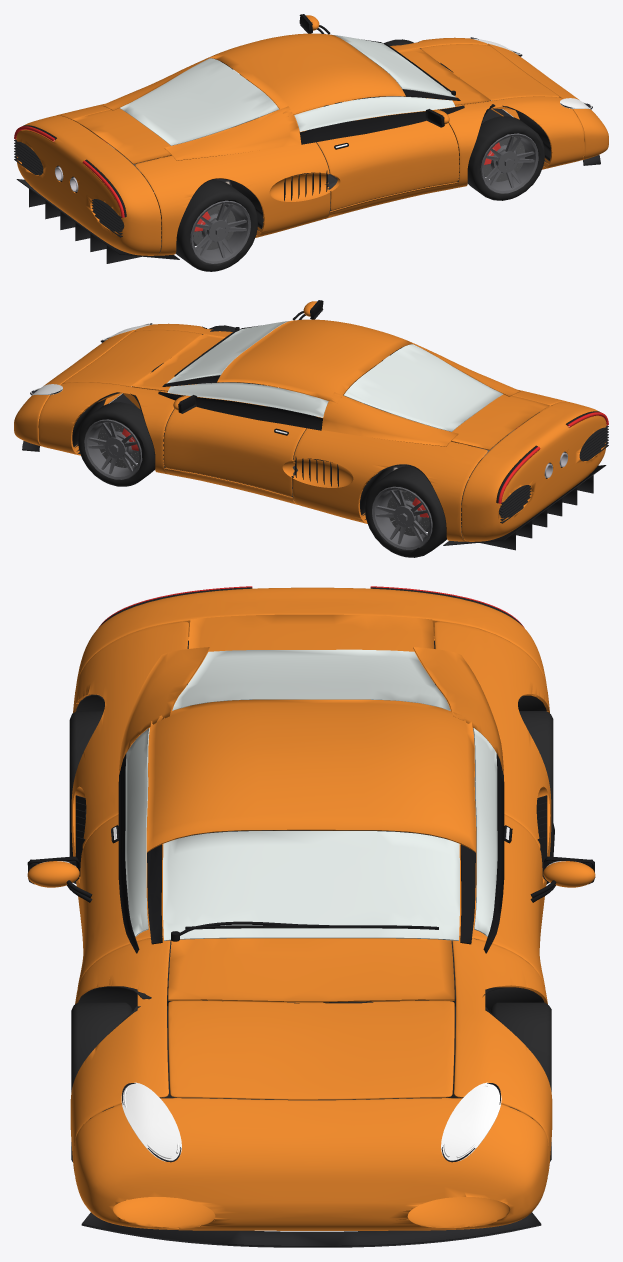
Rendered from Car3.fbx.
The picture shows the model from 3 angles, top to bottom: view 1: azimuth 30°, elevation 25°; view 2: azimuth 150°, elevation 25°; view 3: azimuth 270°, elevation 25°; orthographic projection. The views are drawn at different scales.
Visible parts, largest first — view 1: Body, Wheel_RR.001, Wheel_FR.001; view 2: Body, Wheel_RL.001, Wheel_FL.001; view 3: Body, Wheel_FL.001, Wheel_FR.001, Wheel_RL.001, Wheel_RR.001.
Boxes of the visible parts, x1,y1,x2,y2 form: Body: [14, 14, 608, 263]; Wheel_RR.001: [175, 180, 257, 271]; Wheel_FR.001: [467, 116, 544, 200]; Body: [14, 300, 608, 550]; Wheel_RL.001: [365, 466, 446, 557]; Wheel_FL.001: [78, 402, 155, 486]; Body: [27, 586, 595, 1247]; Wheel_FL.001: [490, 1002, 551, 1161]; Wheel_FR.001: [71, 1002, 132, 1161]; Wheel_RL.001: [519, 711, 554, 884]; Wheel_RR.001: [69, 711, 103, 883].
Bounding box in the file's own units: 4.61 × 1.2 × 2.27.
